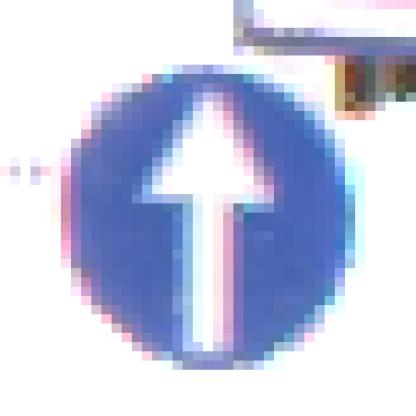AheadOnly: (52, 47, 366, 371)
